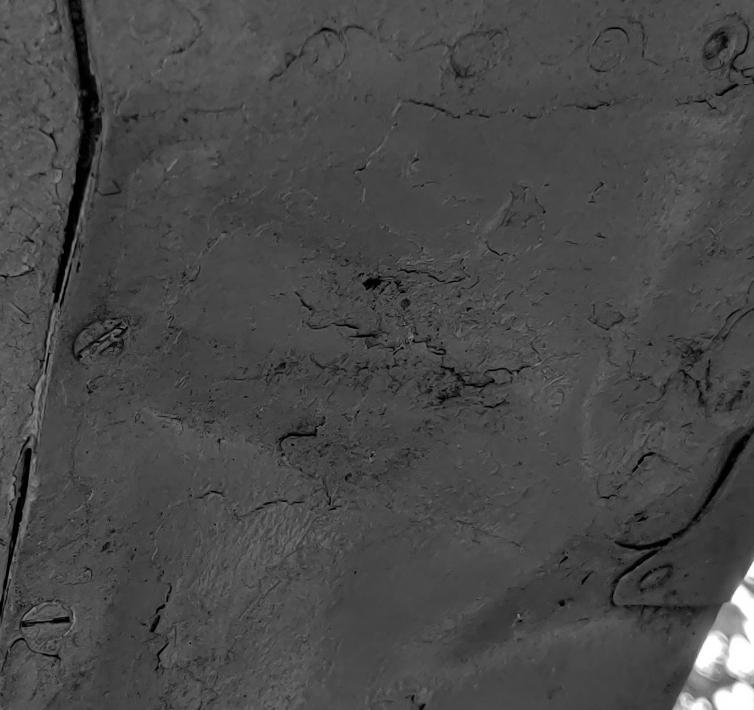dent: (1, 0, 754, 709)
